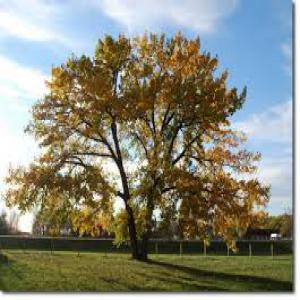Tree: (3, 25, 270, 259)
